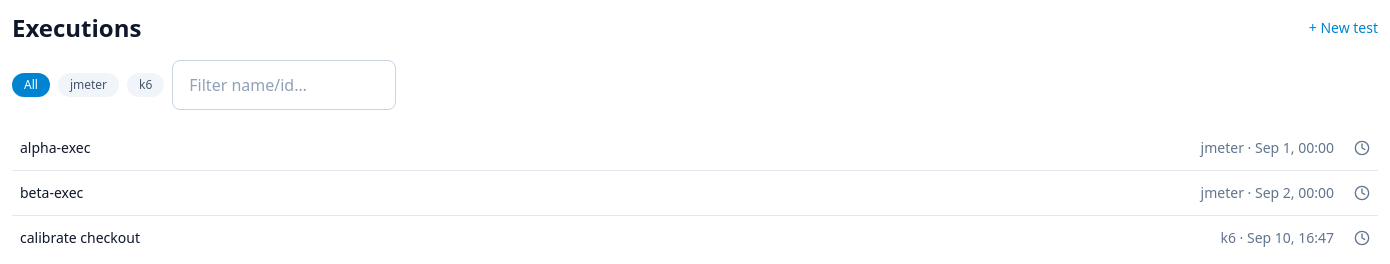
Test: Executions engine filter pressed state (phase 49) › reflects the active engine chip in aria-pressed
Click the button with test id "filter-engine-k6" at (146, 85), box [127,73,164,97]
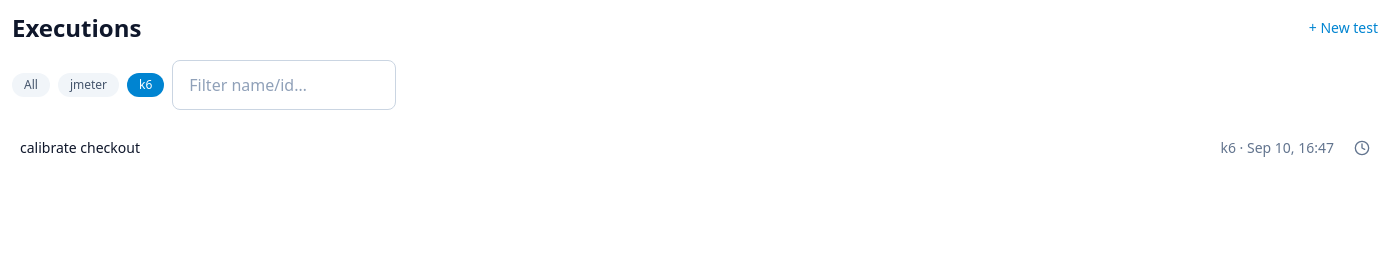
Expected: the link to "/executions/16" is shown, [20,138,1334,157]
Expected: the link to "/executions/7" is gone
